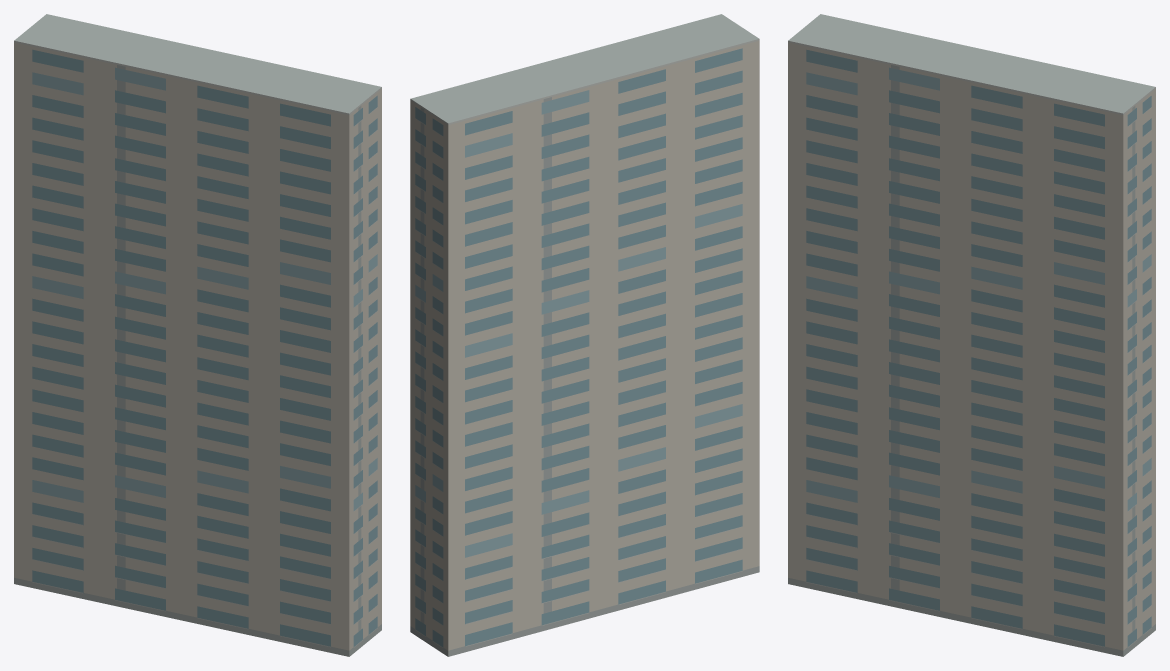
File: residential-ea04e118-bbf9-45a0-874c-94a9f7214bec.glb
3 views of the same model, side by side, from view 1: azimuth 90°, elevation 25°; view 2: azimuth 150°, elevation 25°; view 3: azimuth 270°, elevation 25° (orthographic).
Visible parts, largest first — view 1: residential-ea04e118-bbf9-45a0-874c-94a9f7214bec.tmp; view 2: residential-ea04e118-bbf9-45a0-874c-94a9f7214bec.tmp; view 3: residential-ea04e118-bbf9-45a0-874c-94a9f7214bec.tmp.
Part boxes in pixels (x1,y1,x2,y2): residential-ea04e118-bbf9-45a0-874c-94a9f7214bec.tmp: (14, 14, 381, 656); residential-ea04e118-bbf9-45a0-874c-94a9f7214bec.tmp: (410, 14, 759, 656); residential-ea04e118-bbf9-45a0-874c-94a9f7214bec.tmp: (788, 14, 1155, 656).
Bounding box in the file's own units: 28.78 × 73.2 × 44.91.
